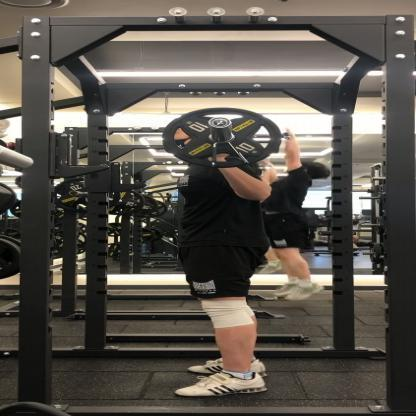barbell: (162, 105, 284, 170)
